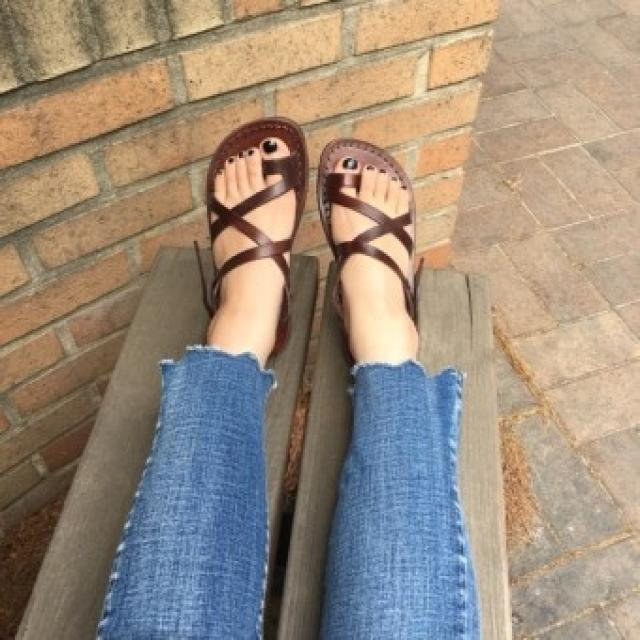no-boots: (183, 111, 301, 352), (322, 113, 435, 354)
